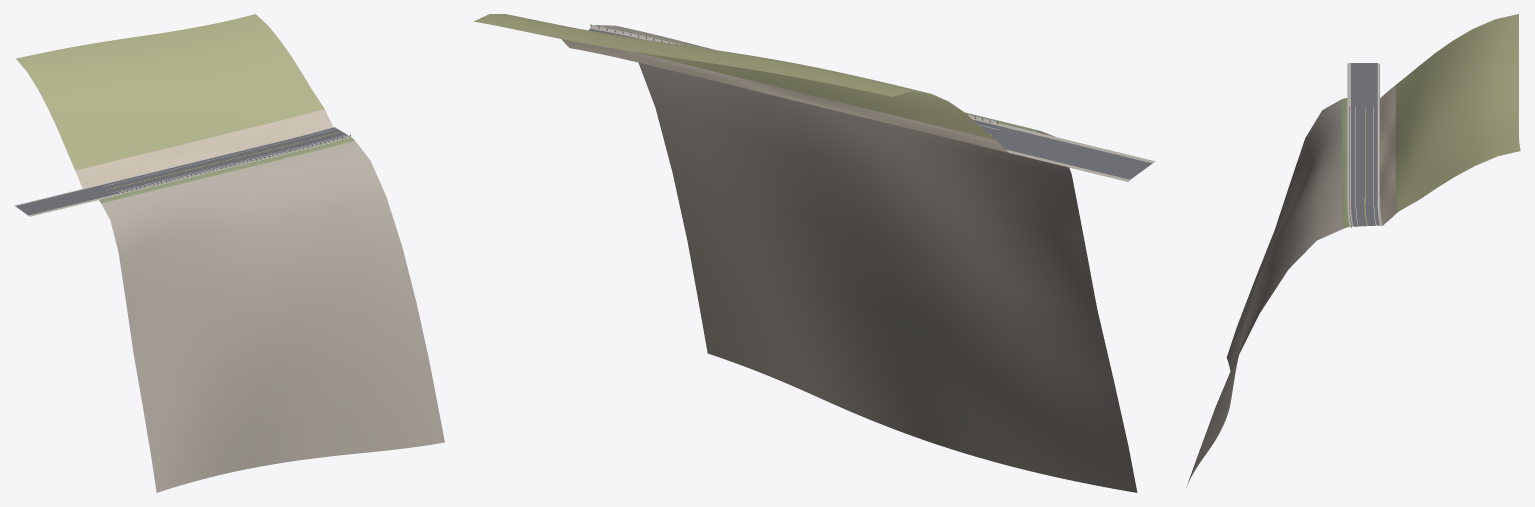
The picture shows the model from 3 angles, left to right: view 1: azimuth 30°, elevation 25°; view 2: azimuth 150°, elevation 25°; view 3: azimuth 270°, elevation 25°; orthographic projection. The views are drawn at different scales.
Visible parts, largest first — view 1: Cliff, Hillside, RoadCut, Asphalt, Gravel, Verge; view 2: Cliff, Hillside, RoadCut, Asphalt, Gravel; view 3: Hillside, Cliff, Asphalt, RoadCut, Gravel, Verge.
Part boxes in pixels (x1,y1,x2,y2): Cliff: [101, 140, 444, 492]; Hillside: [16, 14, 324, 170]; RoadCut: [75, 109, 332, 188]; Asphalt: [15, 127, 349, 215]; Gravel: [14, 127, 351, 216]; Verge: [99, 137, 354, 203]; Cliff: [597, 25, 1137, 492]; Hillside: [474, 14, 995, 140]; RoadCut: [561, 39, 1008, 152]; Asphalt: [588, 28, 1152, 179]; Gravel: [590, 26, 1155, 181]; Hillside: [1395, 14, 1520, 211]; Cliff: [1186, 99, 1344, 487]; Asphalt: [1351, 63, 1379, 226]; RoadCut: [1380, 85, 1397, 225]; Gravel: [1347, 63, 1382, 226]; Verge: [1341, 98, 1349, 228].
Bounding box in the file's own units: 157 × 148 × 131.
